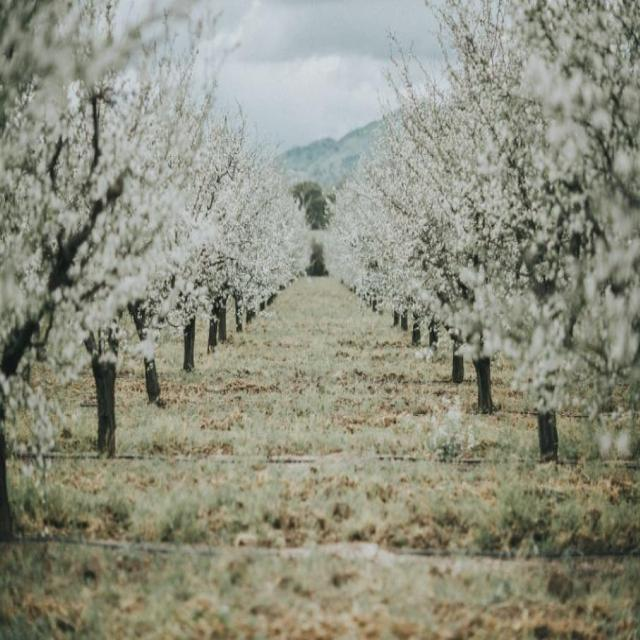row: (5, 276, 628, 638)
